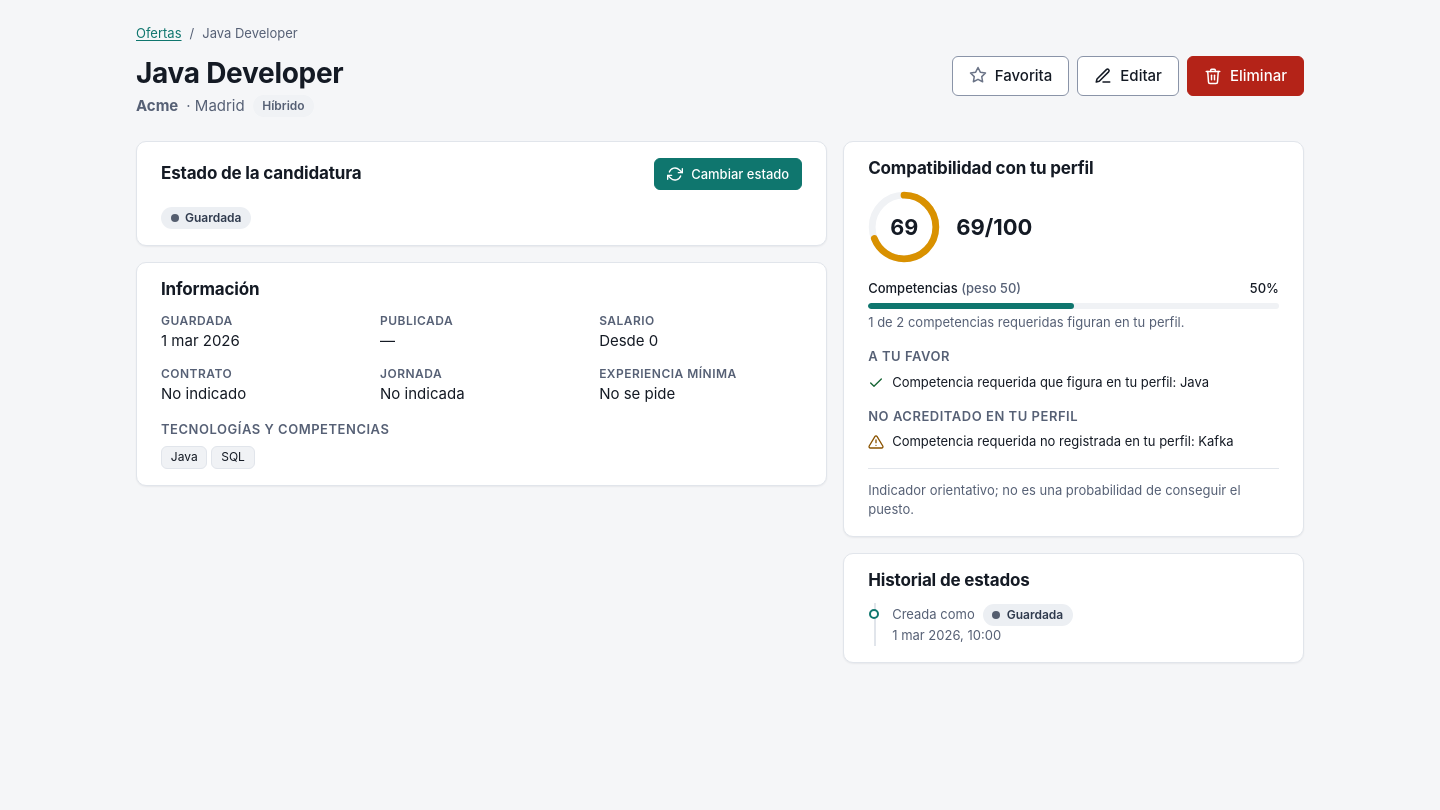
Test: OfferDetailComponent › cambia el estado con una nota y recarga el historial
Click the button "Cambiar estado" at (728, 174), box [654,158,802,190]
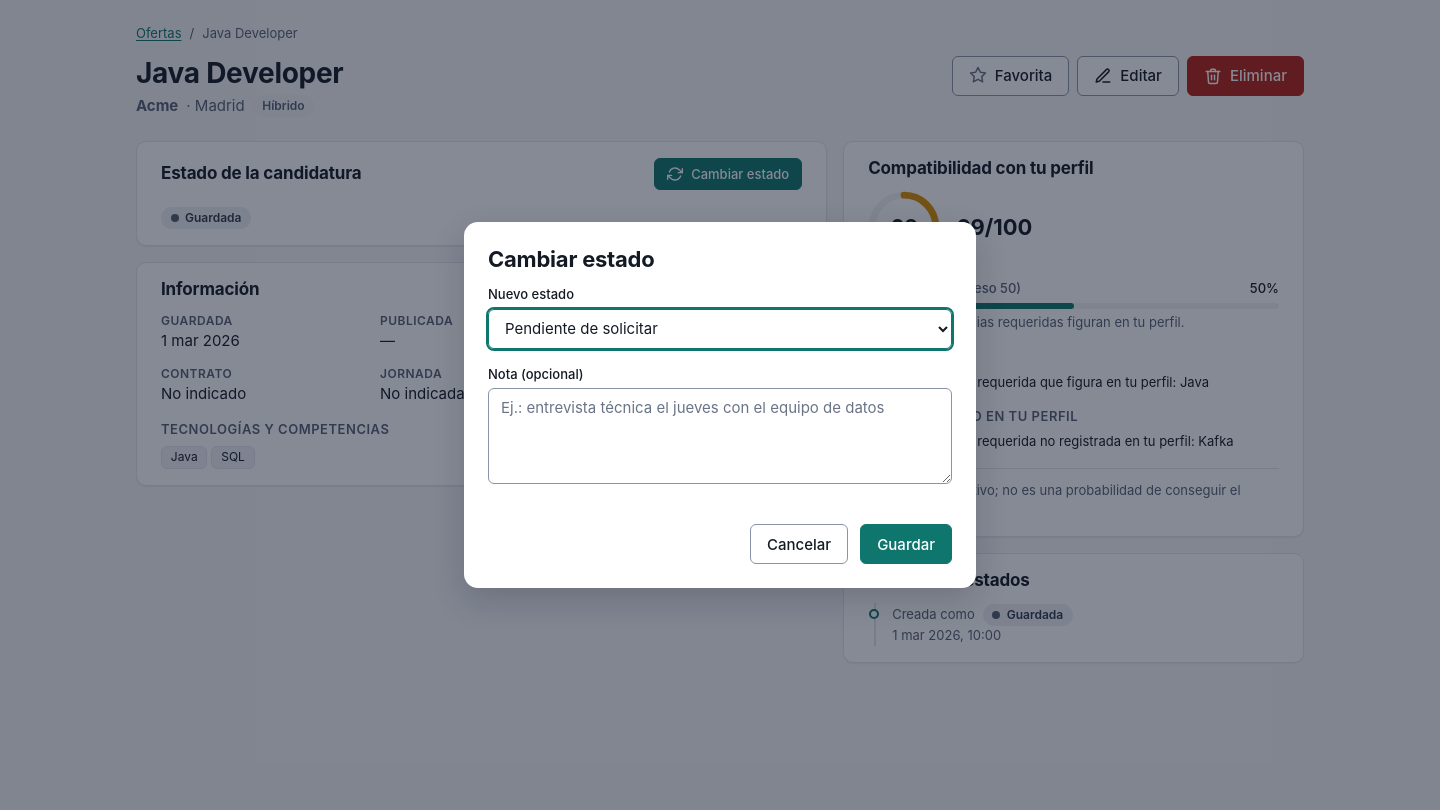
Select "Candidatura enviada" in the dropdown with id "new-status" at (720, 329), box [488,309,952,349]
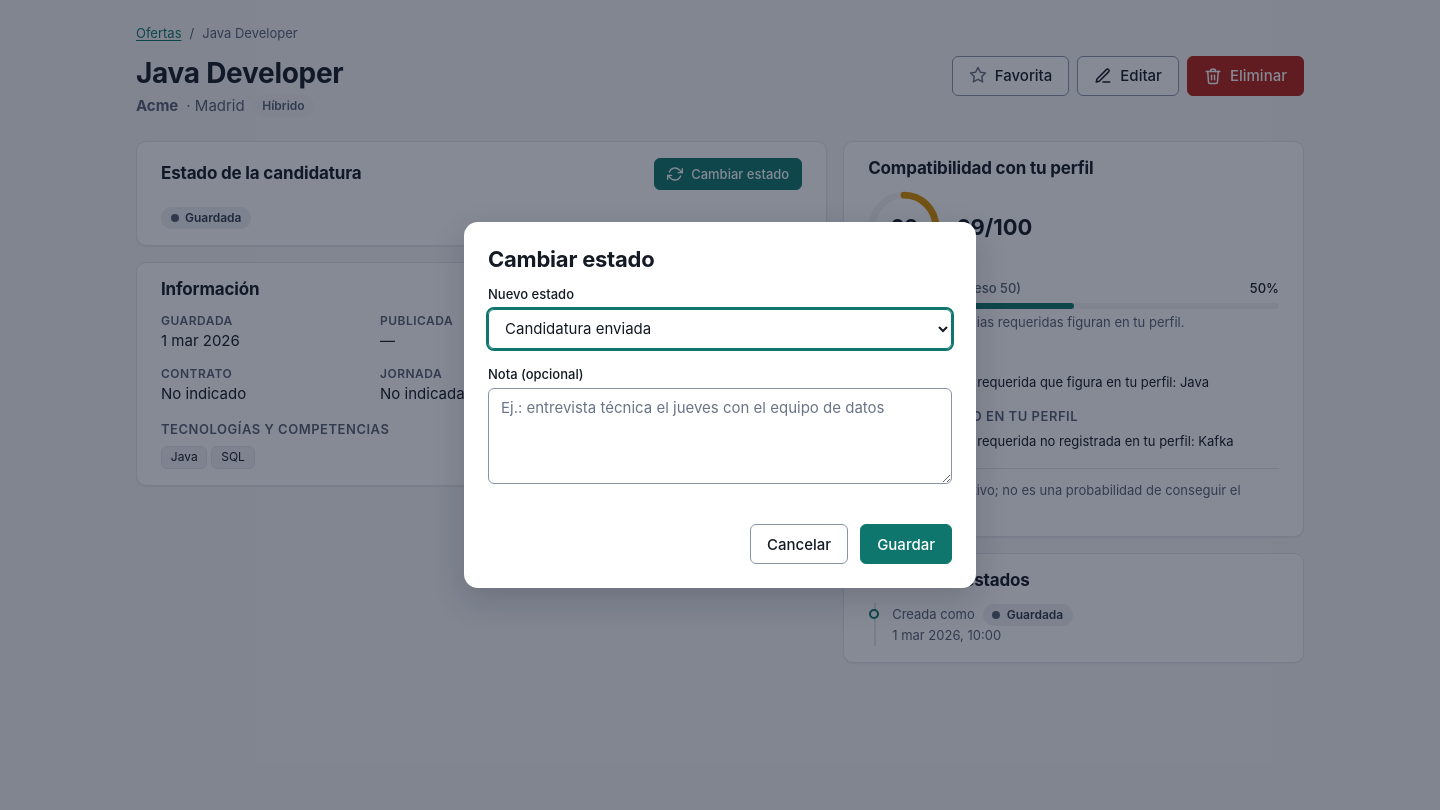
Type "Enviado por LinkedIn" into the text box with id "status-note" at (720, 436), box [488,388,952,484]
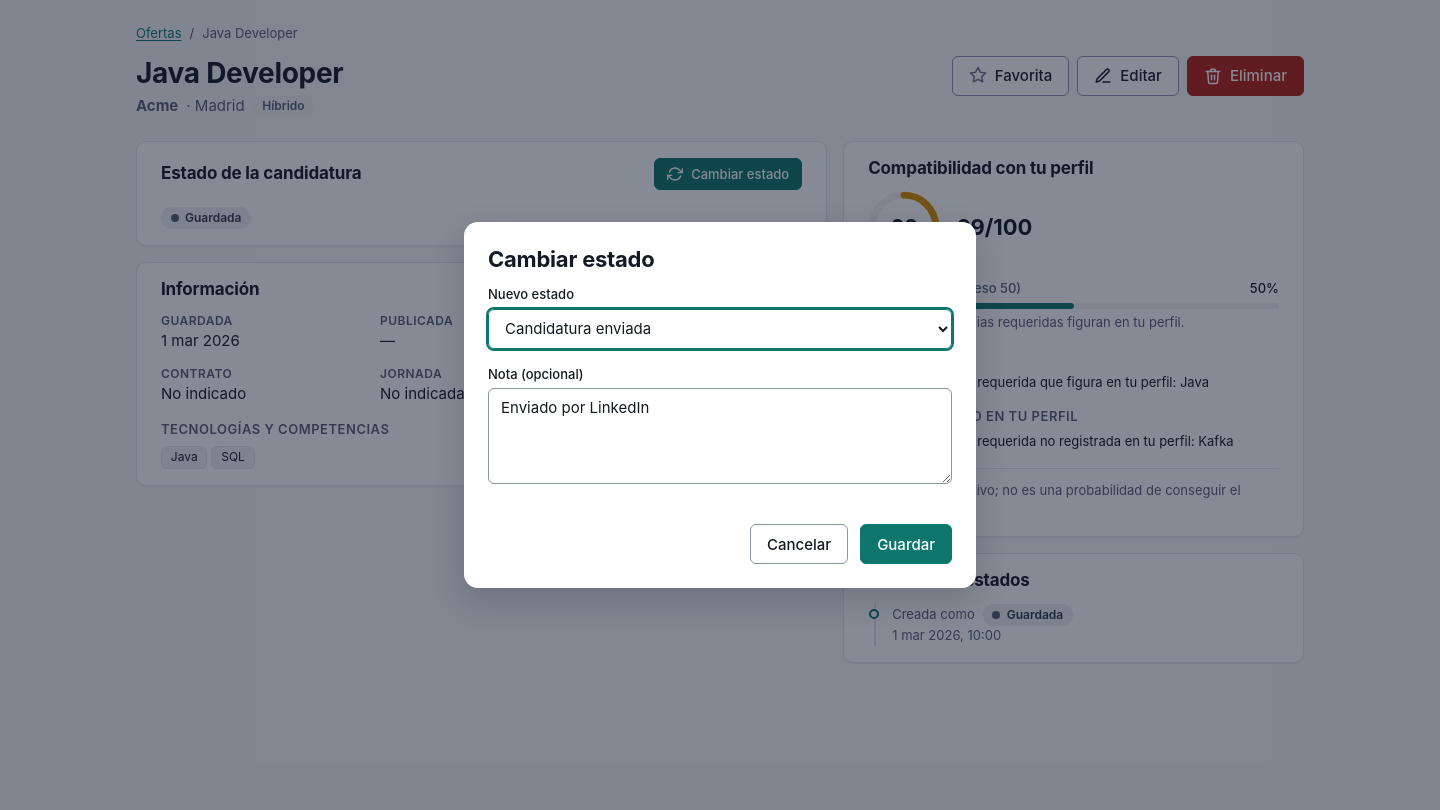
Submit the form, box [488,285,952,564]
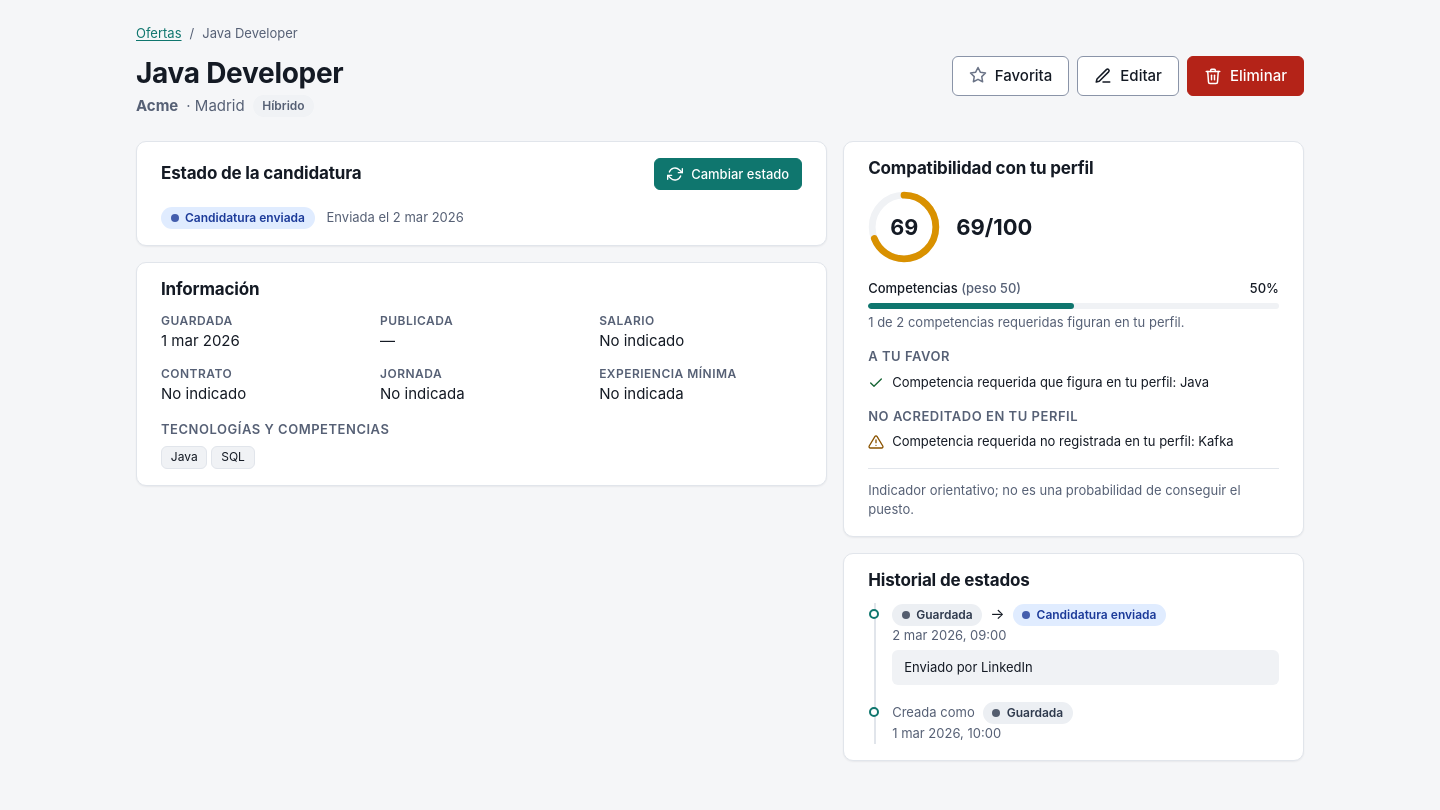
Expected: the text "Enviado por LinkedIn" is shown, [892,650,1279,685]
Expected: the text "Enviada el" is shown, [326,209,464,225]
